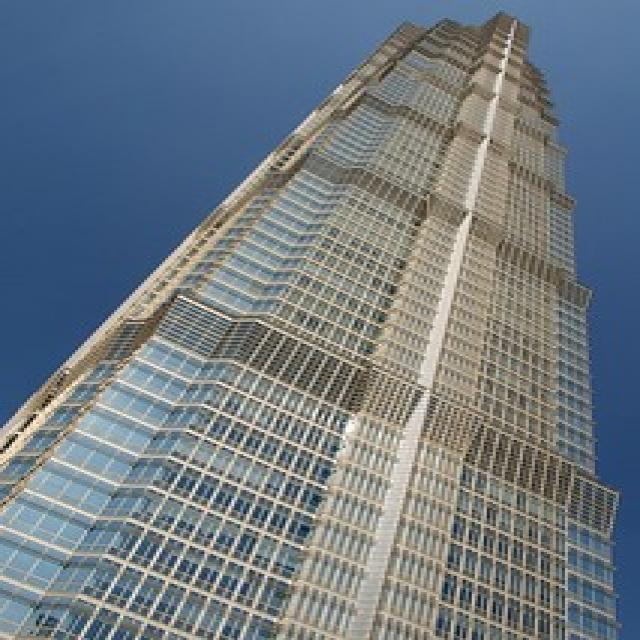Normal_building: (9, 8, 628, 640)
